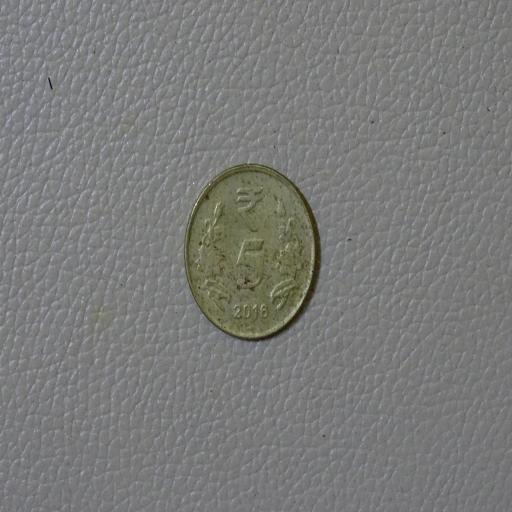rupee5: (181, 161, 322, 342)
